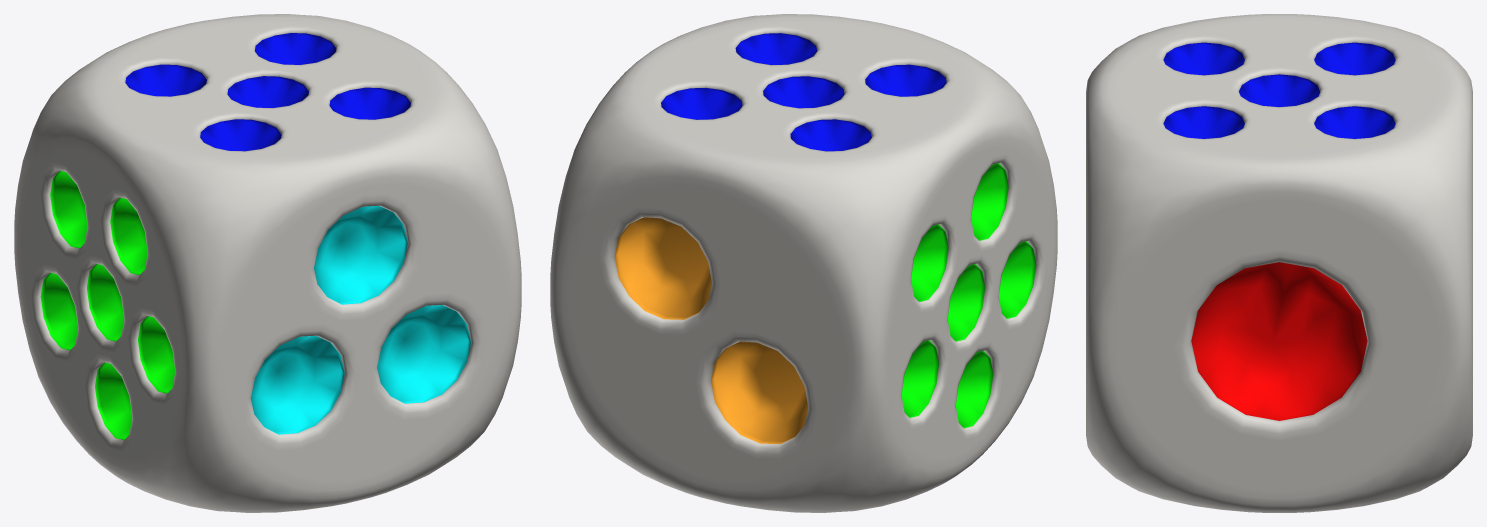
Rendered from GemDiceSm.glb.
The picture shows the model from 3 angles, left to right: view 1: azimuth 30°, elevation 25°; view 2: azimuth 150°, elevation 25°; view 3: azimuth 270°, elevation 25°; orthographic projection.
Parts seen in each view (by area): view 1: GemDice; view 2: GemDice; view 3: GemDice.
Part boxes in pixels (box(x1,y1,x2,y2)): GemDice: box(14, 14, 521, 512); GemDice: box(550, 14, 1057, 512); GemDice: box(1086, 14, 1472, 512).
Bounding box in the file's own units: 0.5 × 0.5001 × 0.5.
